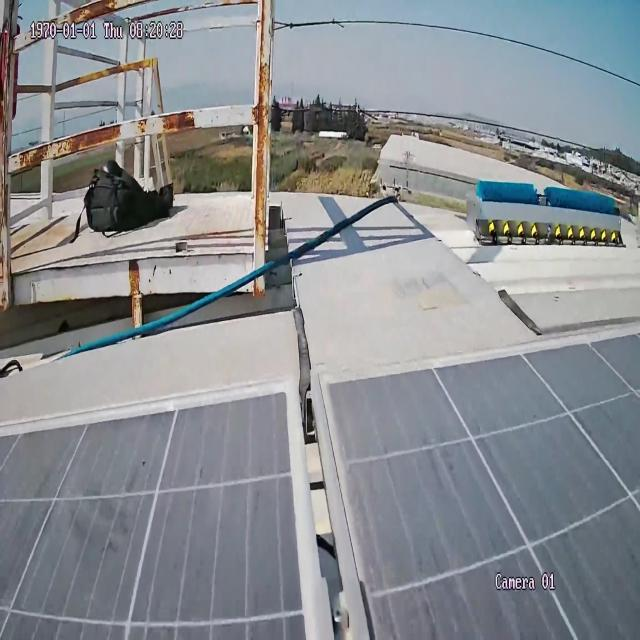interior panel: (247, 365, 469, 640)
outher panel: (0, 258, 610, 430)
